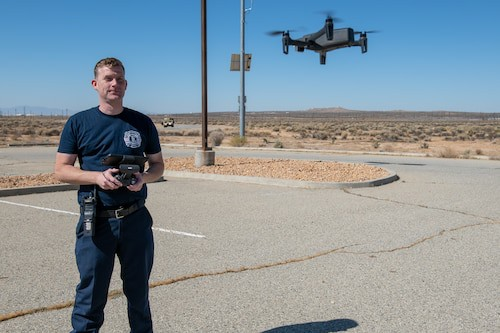maybay_khongnguoilai: (263, 14, 376, 65)
